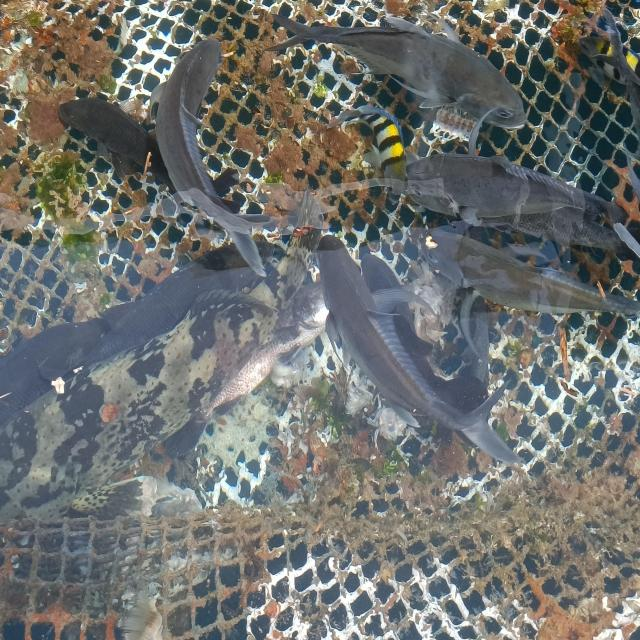ikan: (156, 39, 279, 272), (409, 149, 640, 269), (314, 239, 448, 441), (374, 11, 524, 156), (428, 225, 640, 322)
